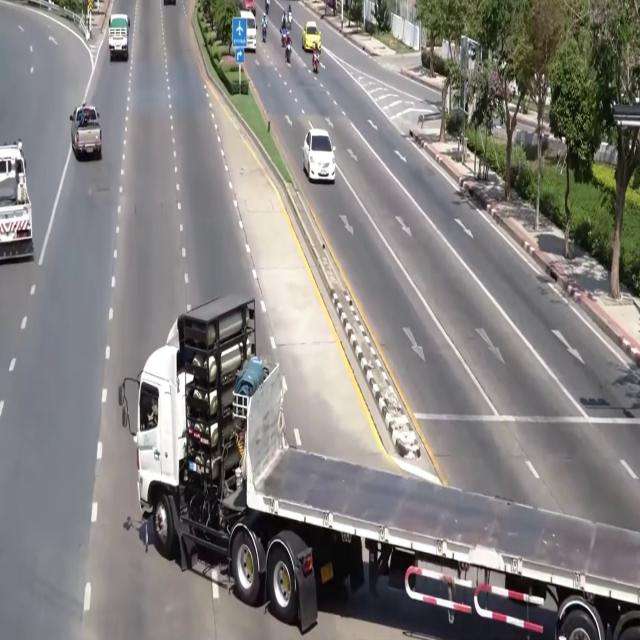car: (303, 128, 336, 183), (302, 21, 320, 51)
scooty: (285, 42, 291, 64), (312, 53, 318, 73), (281, 28, 287, 47), (262, 25, 266, 42), (265, 0, 269, 15)
truck: (118, 295, 639, 639), (0, 141, 33, 261), (70, 104, 102, 159), (108, 14, 130, 61)
